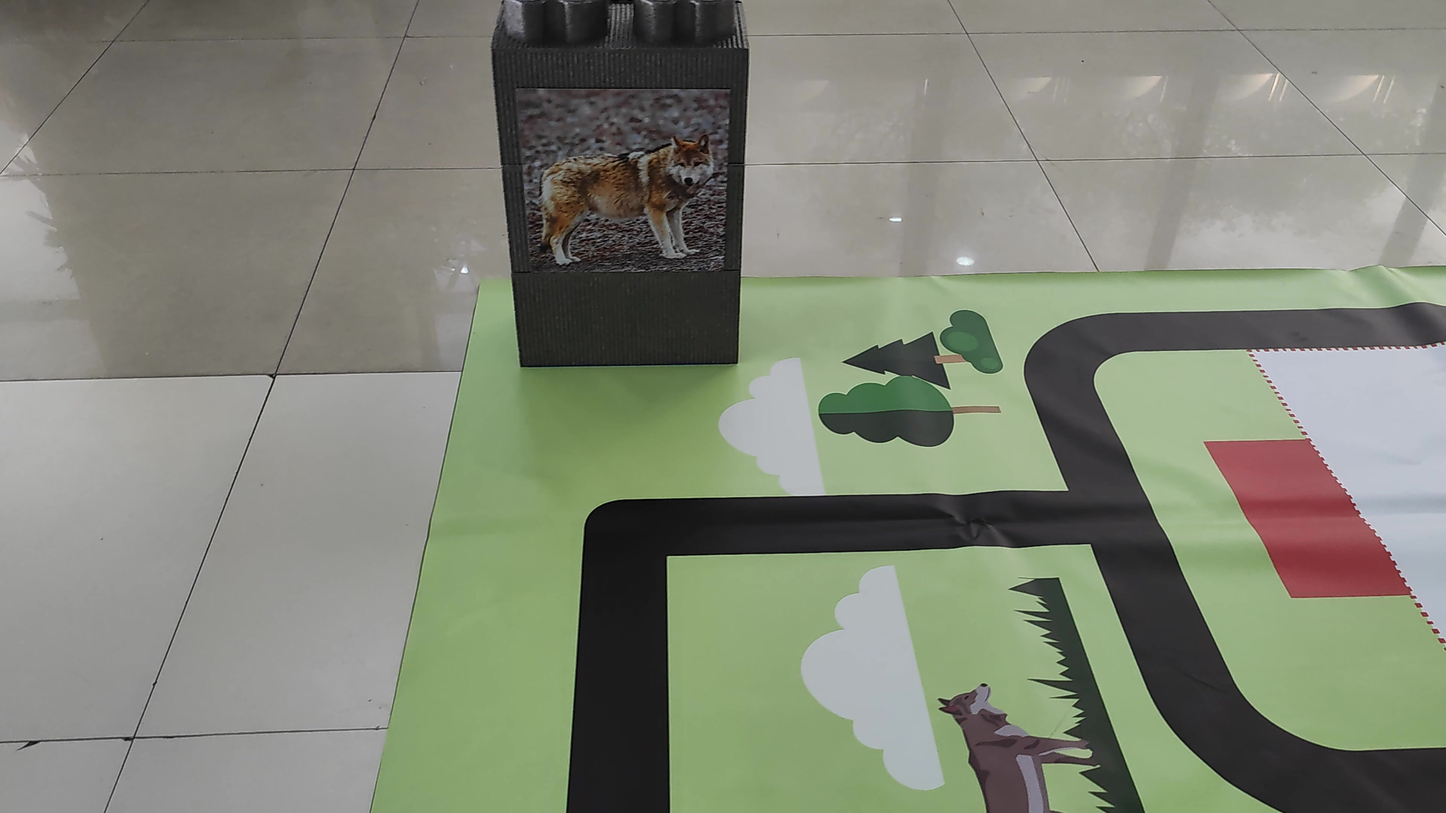wolf: (534, 115, 734, 272)
